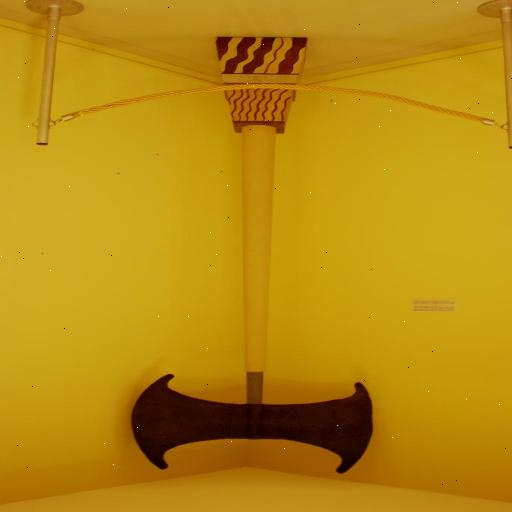Axe: (125, 86, 375, 476)
